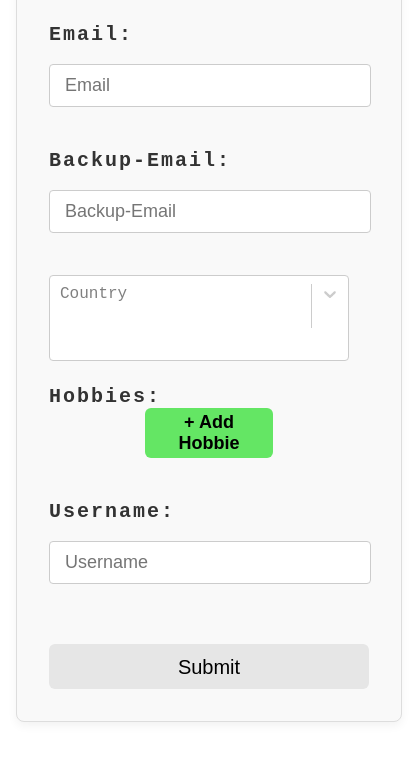
Test: shows error message if email is invalid
(page scrolled)
Click the button "Submit" at (209, 666), box x1=49 y1=644 x2=369 y2=689
(page scrolled)
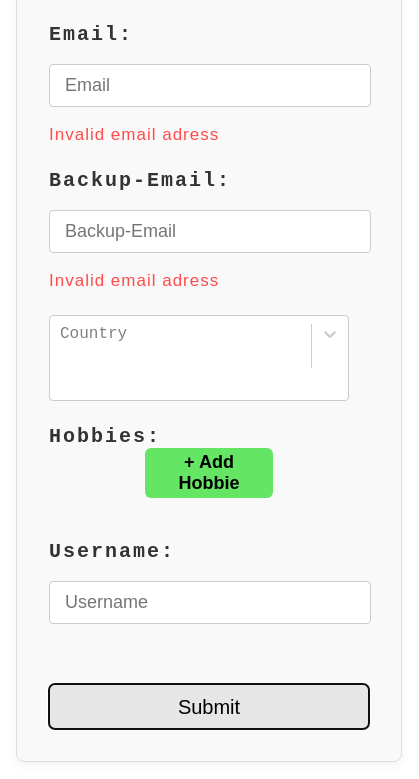
Result: the 1st text "Invalid email adress" is shown at x1=49 y1=125 x2=219 y2=144
